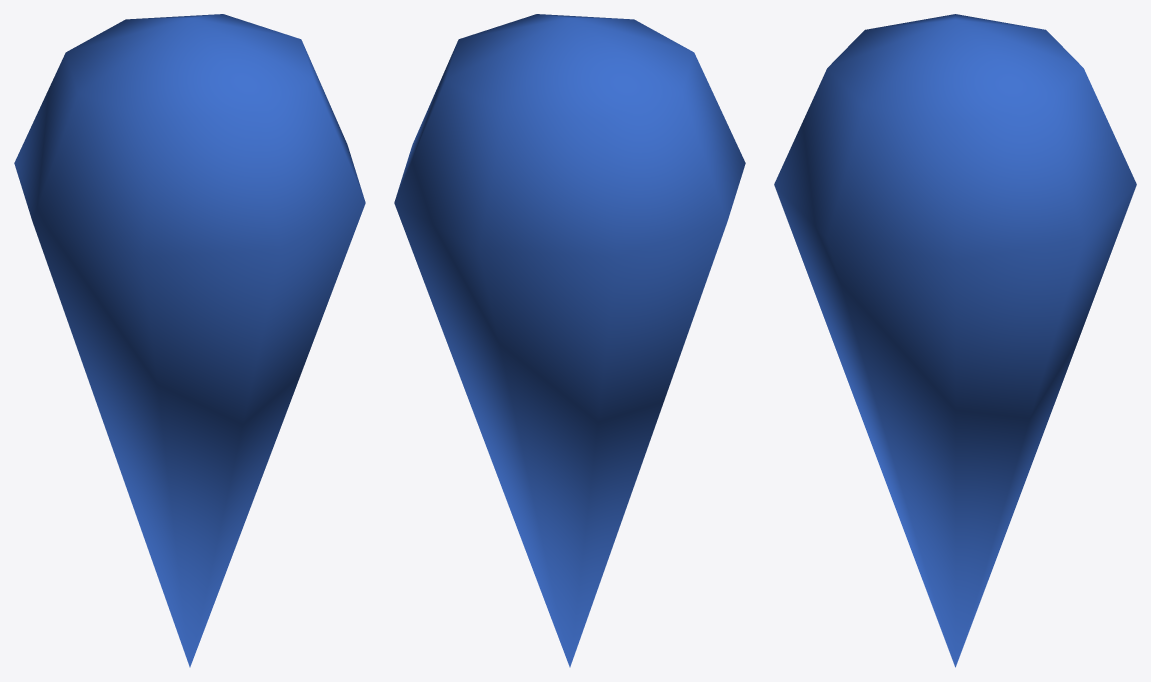
Rendered from tear_drop.obj.
3 renders of one model, left to right at view 1: azimuth 30°, elevation 25°; view 2: azimuth 150°, elevation 25°; view 3: azimuth 270°, elevation 25°, orthographic.
Visible parts, largest first — view 1: Sphere; view 2: Sphere; view 3: Sphere.
Boxes of the visible parts, box(x1,y1,x2,y2) form: Sphere: box(14, 14, 365, 667); Sphere: box(394, 14, 745, 667); Sphere: box(774, 14, 1136, 667).
Size of the model in its own units: 0.067 by 0.1321 by 0.067.
